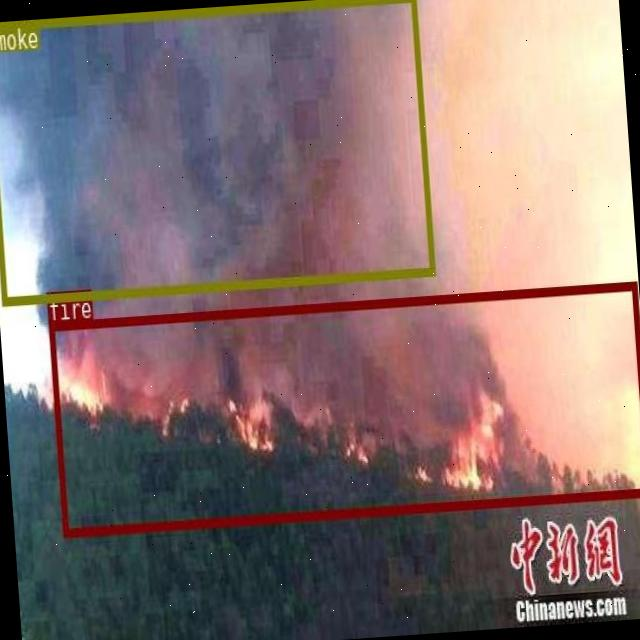fire: (47, 279, 640, 534)
smoke: (0, 0, 433, 304)
